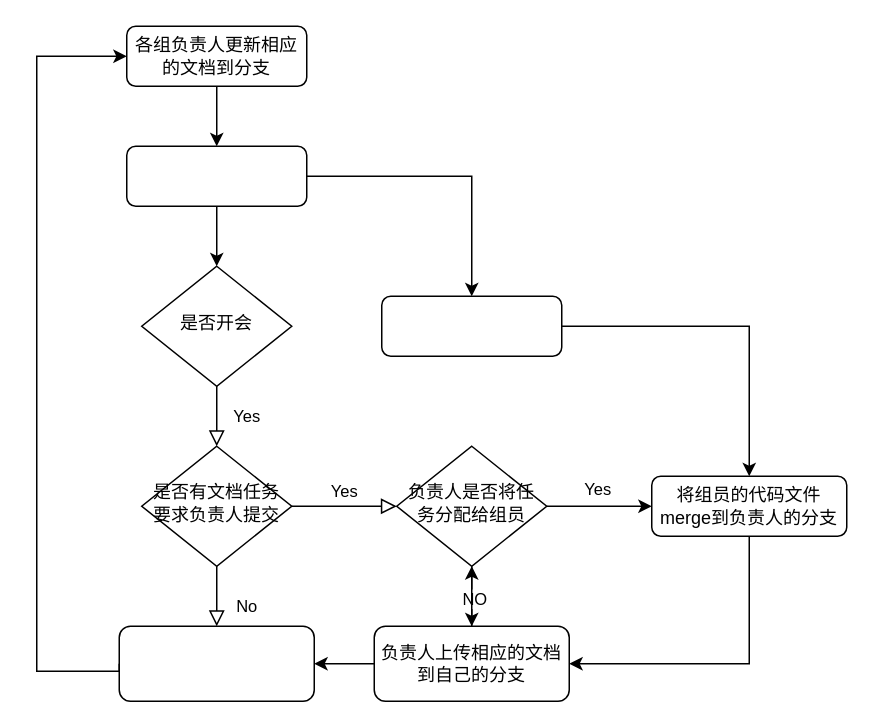
Image size: 873x728. Some labels were removed from this diagram. Each missing label, with the centre of its shape:
"组员将main分支合并到自己的分支" goes at pixel 471 325.
"组长将文档merge到main分支下" goes at pixel 216 175.
"负责人将main分支下的Resource/文件夹merge到负责人所在的分支" goes at pixel 216 663.
